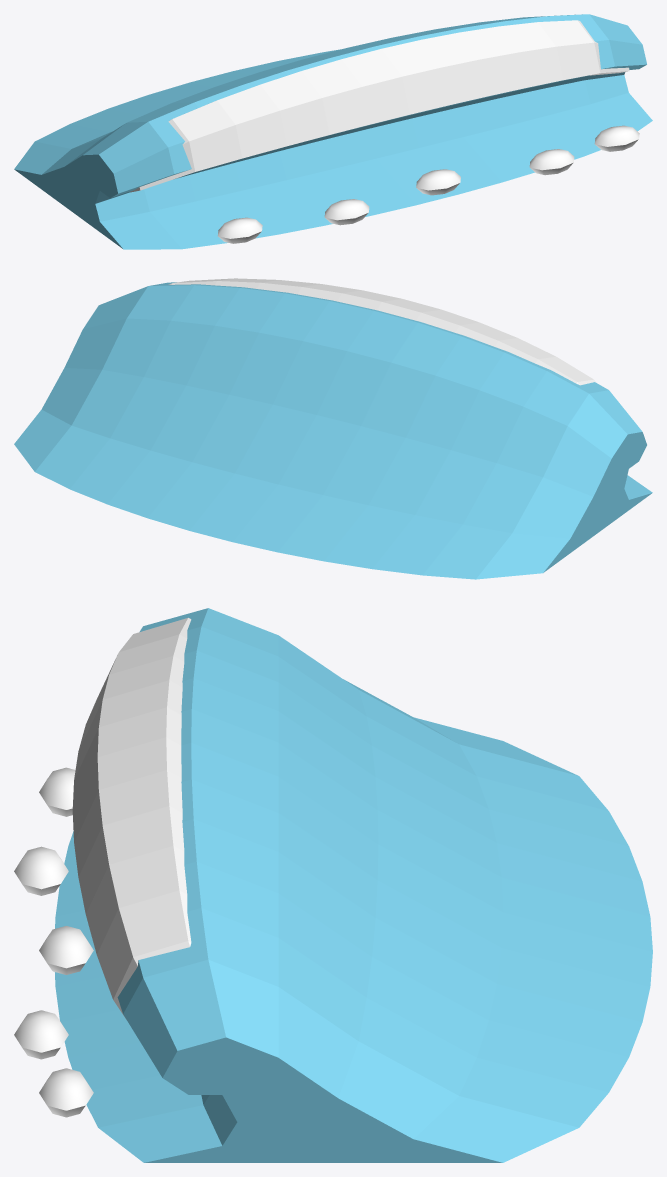
Rendered from H04_WaveCrest.fbx.
3 renders of one model, top to bottom at view 1: azimuth 30°, elevation 25°; view 2: azimuth 150°, elevation 25°; view 3: azimuth 270°, elevation 25°, orthographic. The views are drawn at different scales.
Visible parts, largest first — view 1: H04_WaveCrest; view 2: H04_WaveCrest; view 3: H04_WaveCrest.
Part boxes in pixels (<box>): H04_WaveCrest: <box>14,14,652,249</box>; H04_WaveCrest: <box>14,278,652,579</box>; H04_WaveCrest: <box>14,608,652,1162</box>.
Size of the model in its own units: 8 by 1.9 by 5.12.
